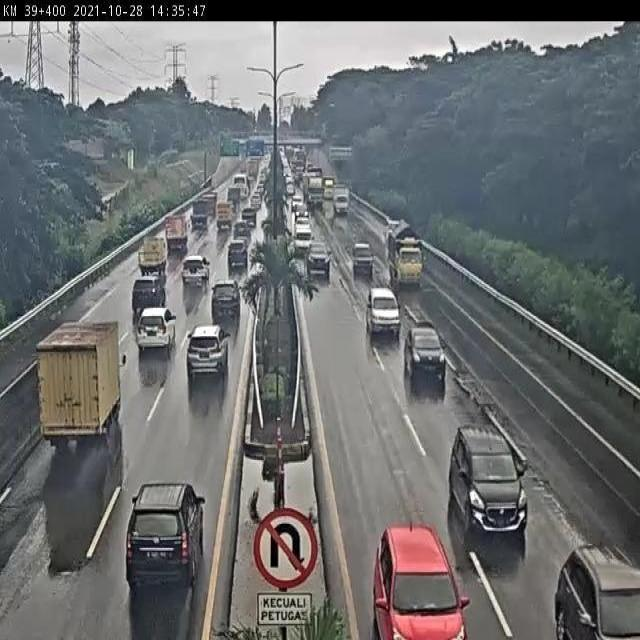Car: (370, 523, 470, 637), (449, 425, 529, 542), (553, 545, 640, 637), (125, 482, 203, 582), (185, 323, 231, 393), (404, 323, 447, 394), (134, 306, 177, 355), (366, 288, 400, 341), (210, 280, 242, 328), (132, 275, 166, 319), (306, 240, 332, 280), (181, 254, 211, 288), (351, 241, 374, 278), (227, 239, 249, 272), (241, 203, 258, 228), (293, 230, 312, 252)
Truck: (36, 316, 121, 447), (385, 221, 424, 290), (138, 236, 168, 276), (165, 211, 187, 250), (216, 200, 235, 230), (334, 186, 349, 215)
